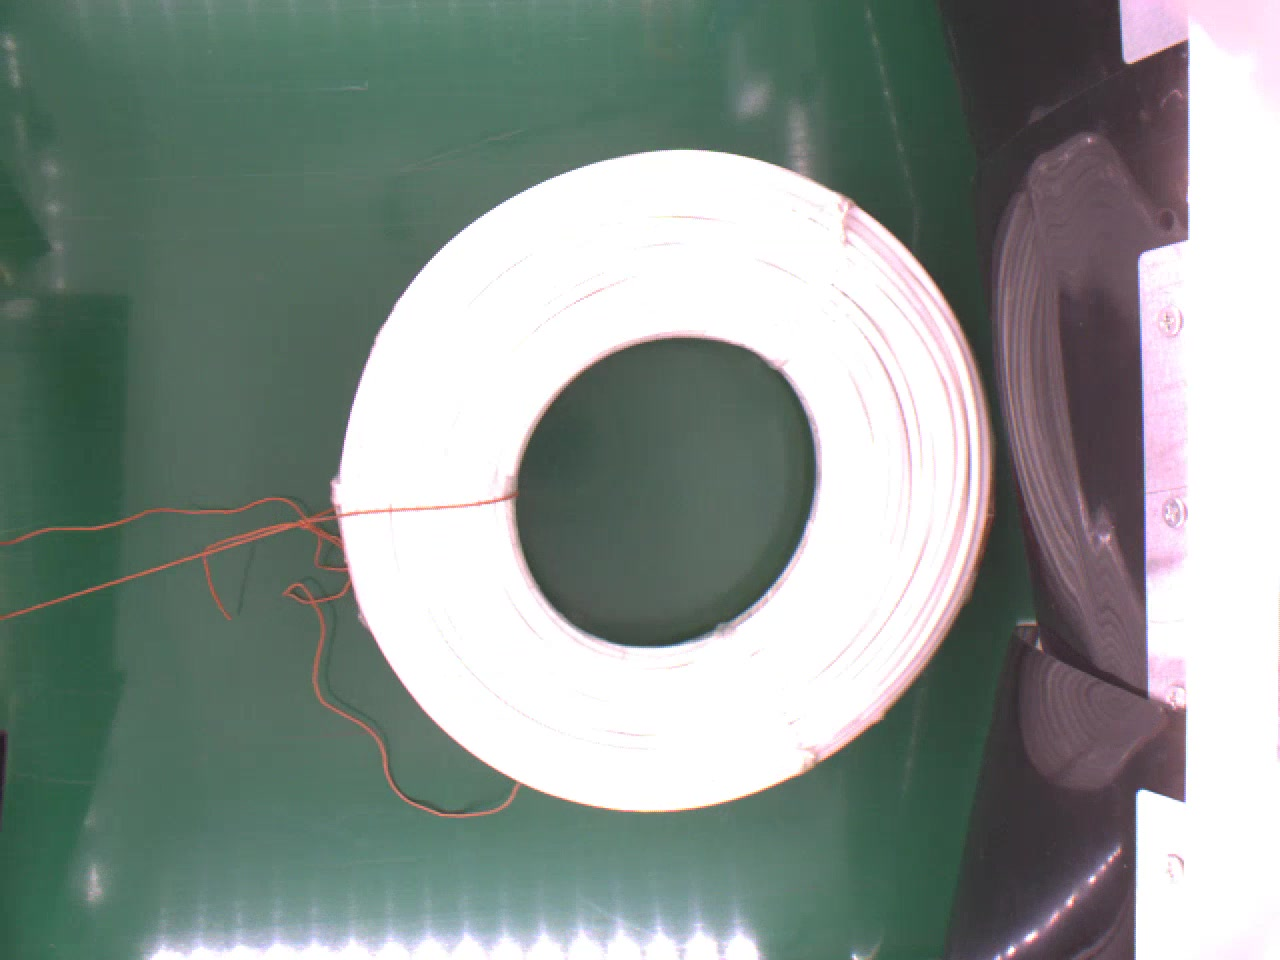white: (329, 140, 996, 820)
